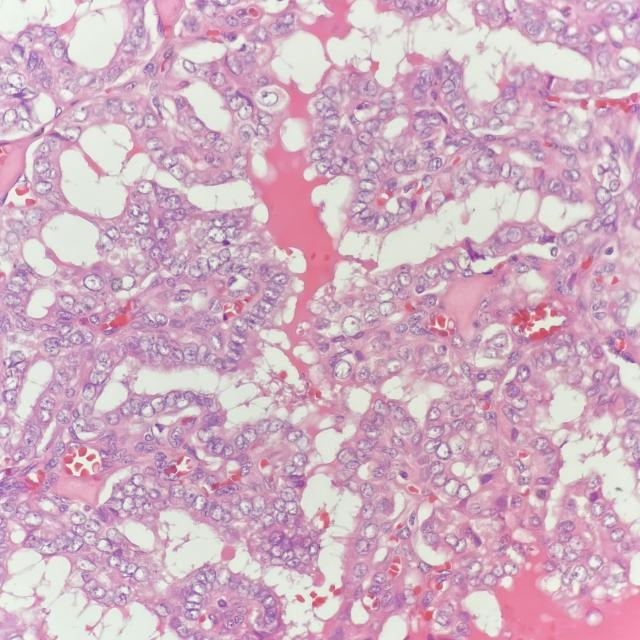TC: (380, 191, 413, 220), (337, 312, 366, 343), (328, 354, 356, 385), (428, 436, 455, 468), (466, 440, 506, 461), (569, 331, 595, 362), (202, 223, 234, 248), (426, 183, 450, 215), (419, 150, 445, 178), (483, 329, 513, 353), (435, 252, 460, 279), (207, 328, 228, 360), (132, 173, 160, 196), (155, 192, 185, 213), (264, 412, 289, 437), (203, 435, 228, 460), (377, 297, 400, 324), (368, 394, 395, 417), (393, 263, 415, 291), (82, 269, 106, 294), (398, 410, 421, 436), (286, 451, 316, 470), (164, 255, 188, 278), (421, 421, 447, 442), (362, 464, 394, 481), (152, 223, 176, 245), (383, 356, 408, 377), (447, 399, 468, 424), (240, 423, 261, 448), (166, 344, 184, 372), (133, 234, 158, 254), (121, 330, 139, 357), (259, 286, 283, 306), (514, 361, 535, 383), (510, 391, 535, 409), (228, 318, 256, 334), (150, 392, 166, 420), (126, 203, 149, 222), (98, 231, 114, 258), (352, 189, 377, 205), (183, 343, 197, 370), (354, 438, 376, 454), (272, 271, 291, 289), (153, 310, 170, 330), (104, 409, 120, 430), (235, 270, 256, 282)
